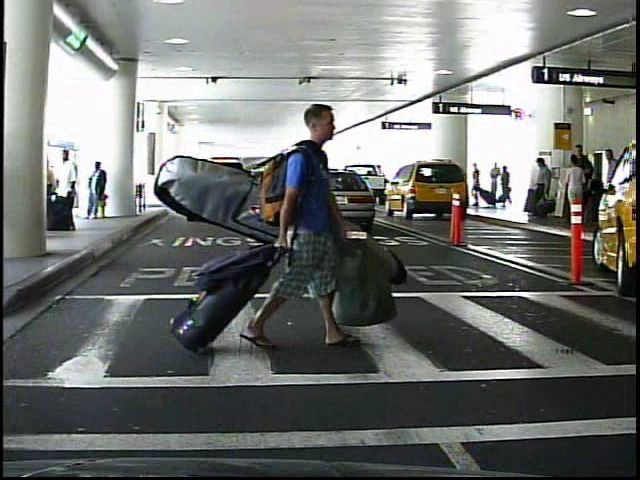person: (269, 92, 366, 366), (50, 146, 81, 233), (81, 159, 108, 225), (562, 155, 586, 226), (568, 143, 589, 222), (530, 157, 554, 223), (594, 146, 617, 204), (469, 160, 483, 208), (489, 161, 502, 209), (498, 162, 509, 206)
